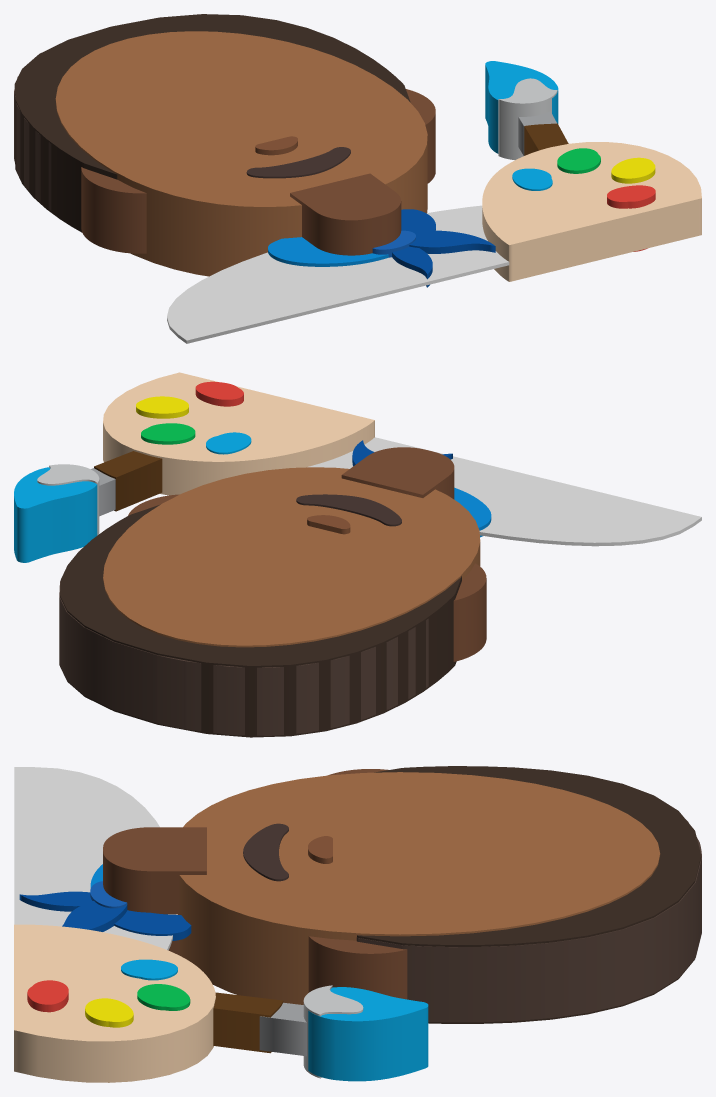
The model's file is emoji_u1f468_1f3fe_200d_1f3a8.glb.
The picture shows the model from 3 angles, top to bottom: view 1: azimuth 30°, elevation 25°; view 2: azimuth 150°, elevation 25°; view 3: azimuth 270°, elevation 25°; orthographic projection. The views are drawn at different scales.
Visible parts, largest first — view 1: emoji_u1f468_1f3fe_200d_1f3a8; view 2: emoji_u1f468_1f3fe_200d_1f3a8; view 3: emoji_u1f468_1f3fe_200d_1f3a8.
Part boxes in pixels (x1,y1,x2,y2): emoji_u1f468_1f3fe_200d_1f3a8: (14,14,701,343); emoji_u1f468_1f3fe_200d_1f3a8: (14,372,701,737); emoji_u1f468_1f3fe_200d_1f3a8: (14,766,701,1082).
Size of the model in its own units: 0.0334 by 0.005 by 0.0332.
